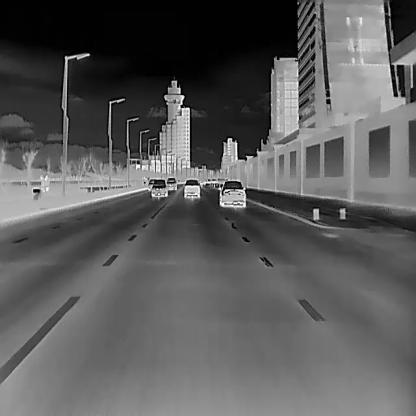car: (218, 180, 246, 207), (183, 178, 200, 199), (151, 179, 166, 197), (166, 175, 176, 190), (147, 178, 156, 190)
